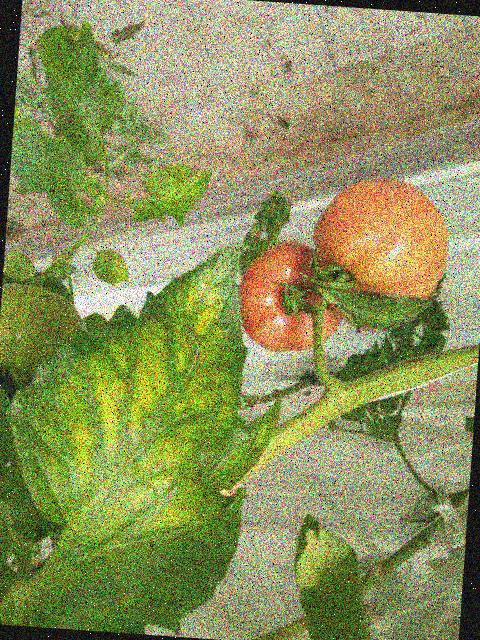b_green: (0, 282, 91, 381)
b_half_ripened: (306, 173, 454, 336), (235, 237, 348, 356)
